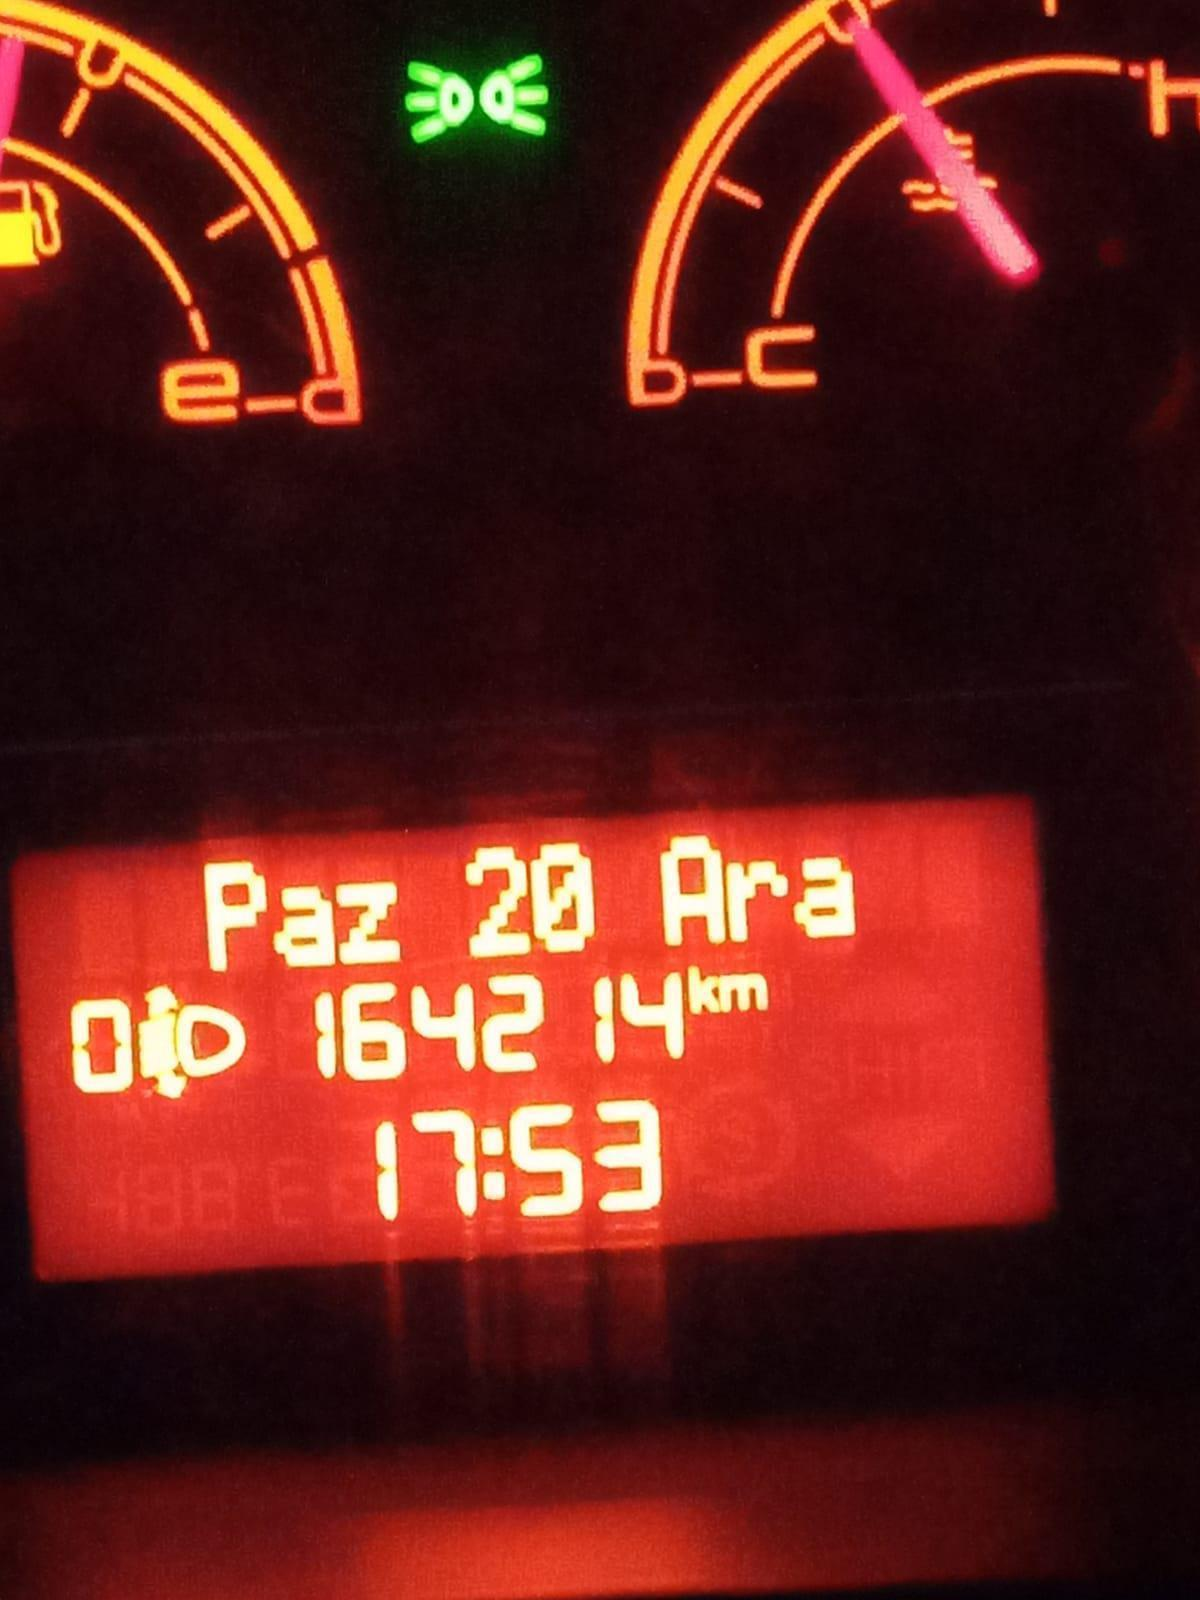0: (63, 989, 136, 1097), (534, 837, 600, 950)
1: (366, 1105, 400, 1232), (585, 970, 613, 1077), (311, 986, 337, 1095)
2: (463, 843, 536, 966), (482, 970, 545, 1078)
3: (594, 1095, 674, 1232)
4: (407, 978, 479, 1078), (616, 968, 686, 1071)
5: (508, 1097, 589, 1226)
6: (343, 978, 413, 1089)
7: (411, 1105, 479, 1226)
X: (194, 847, 274, 974), (655, 820, 729, 945), (337, 874, 411, 963), (794, 850, 858, 947), (272, 882, 343, 970), (721, 857, 790, 945), (476, 1116, 511, 1209), (721, 970, 770, 1014), (684, 963, 721, 1018)
odometer: (8, 784, 1082, 1286)
